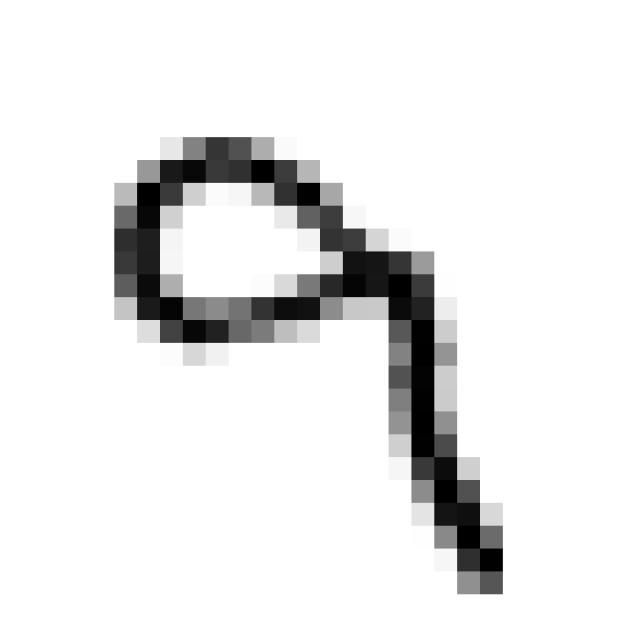9 -nine-: (94, 117, 515, 614)
